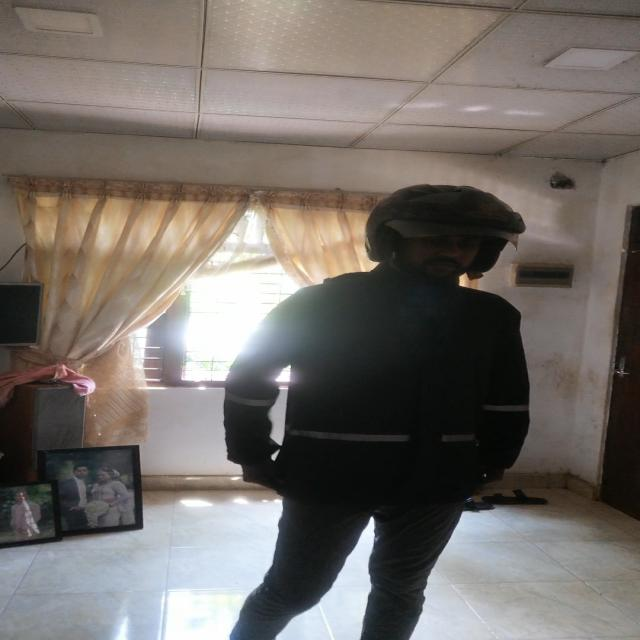Helmet_Wearer: (366, 184, 526, 304)
Jacket_Wearer: (224, 261, 545, 518)
Person: (224, 189, 527, 640)
